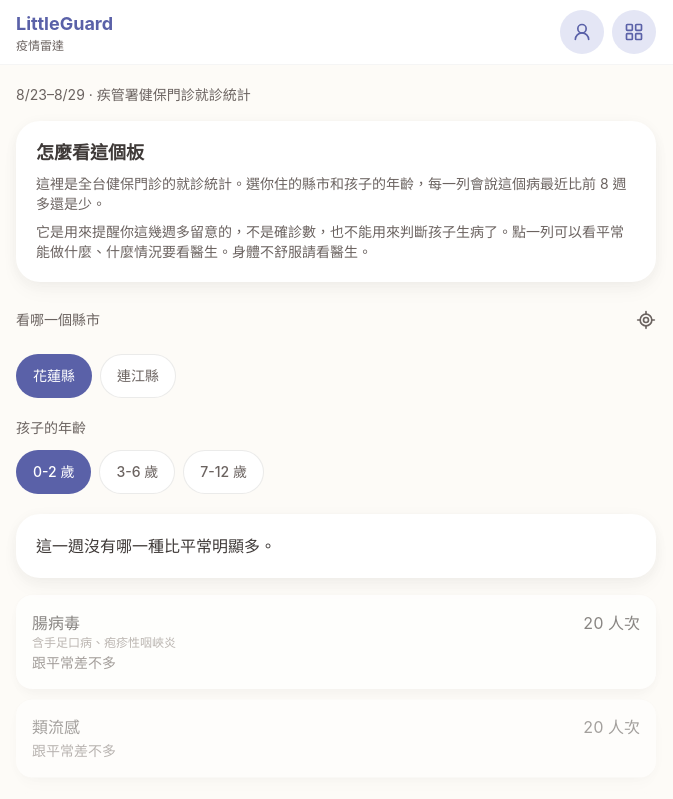
Test case: 一句話總結 › 整塊板都比不出來的時候不給安心的那句話
The image size is (673, 799).
Check: the text "腸病毒" is shown, box [32,613,80,633]
# 連江縣 0-2 歲四列都是「資料不足」，這一行就得跟著承認。
Step 1. Click the button "連江縣" → (138, 376), box [100,354,176,398]
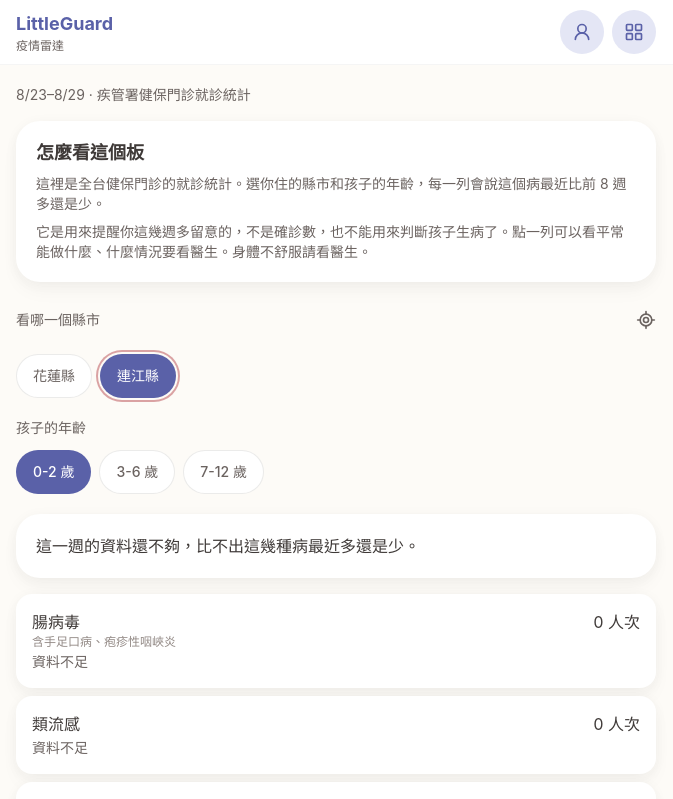
Check: the text "資料不足" is shown 4 times
Check: the text "沒有哪一種比平常明顯多" is gone
Check: the text "這一週的資料還不夠，比不出這幾種病最近多還是少。" is shown, box [16,514,656,578]
